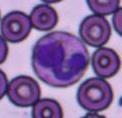N: (31, 30, 89, 86)
